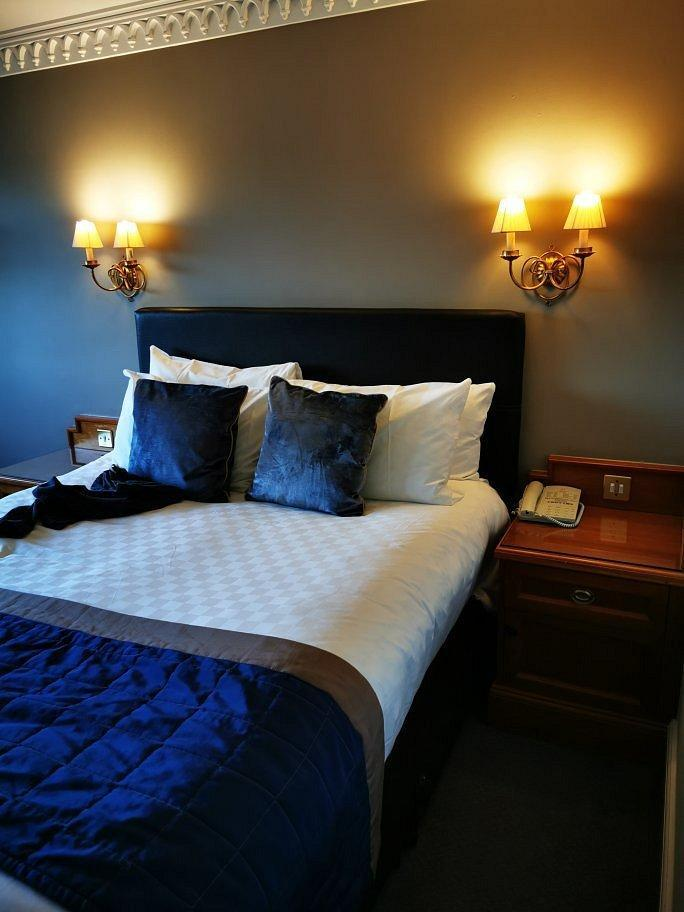clean_bed: (0, 309, 526, 911)
organised_pillow: (107, 343, 521, 517)
